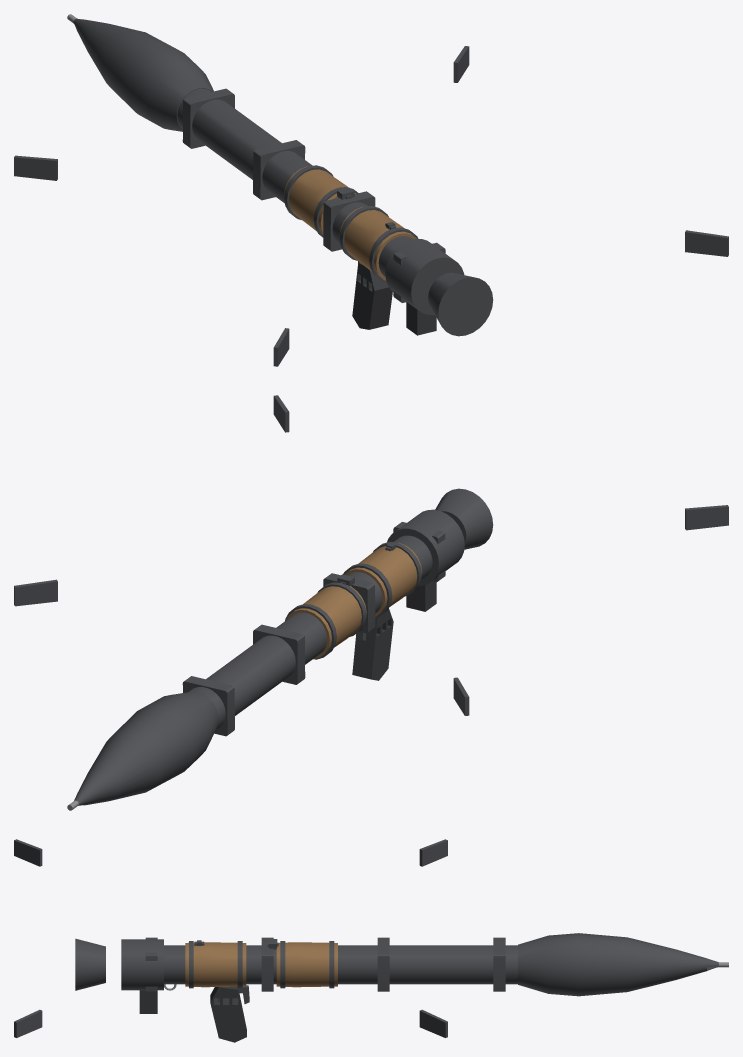
The model's file is W_rocket_launcher.fbx.
3 renders of one model, top to bottom at view 1: azimuth 30°, elevation 25°; view 2: azimuth 150°, elevation 25°; view 3: azimuth 270°, elevation 25°, orthographic. The views are drawn at different scales.
Visible parts, largest first — view 1: W_rocket_launcher; view 2: W_rocket_launcher; view 3: W_rocket_launcher.
Part boxes in pixels (x1,y1,x2,y2): W_rocket_launcher: (14,14,728,366); W_rocket_launcher: (14,395,728,810); W_rocket_launcher: (14,839,728,1042).
Bounding box in the file's own units: 0.7113 × 0.197 × 1.17.
